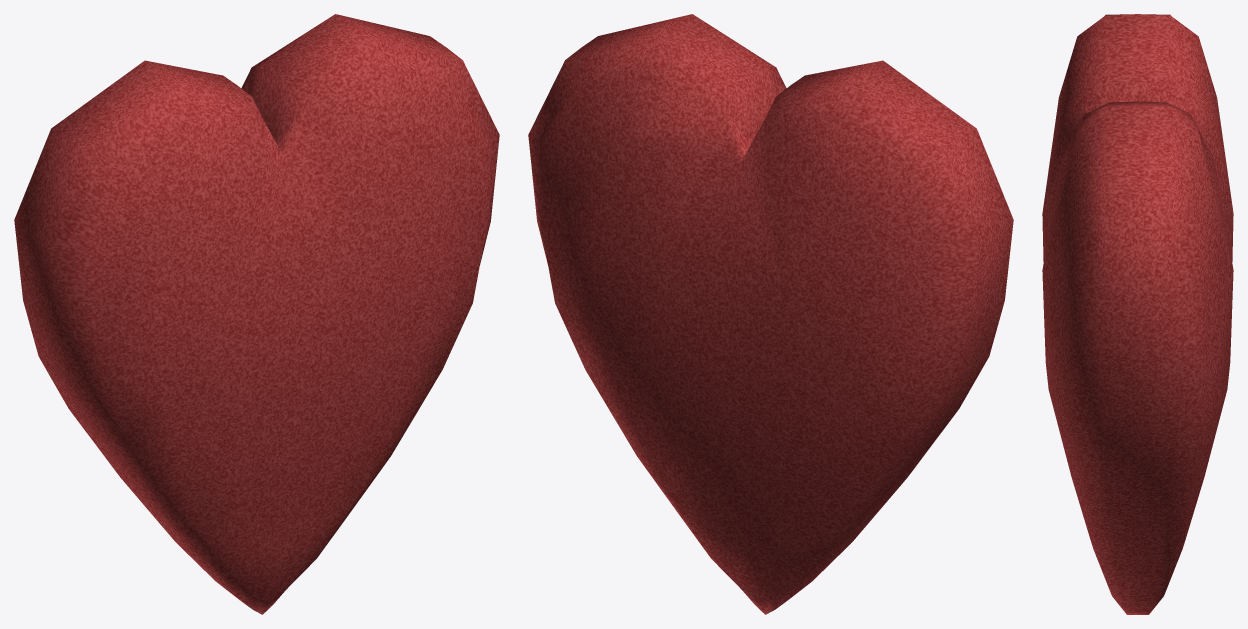
Rendered from ItemHeart.FBX.
3 renders of one model, left to right at view 1: azimuth 30°, elevation 25°; view 2: azimuth 150°, elevation 25°; view 3: azimuth 270°, elevation 25°, orthographic.
Visible parts, largest first — view 1: Heart; view 2: Heart; view 3: Heart.
Part boxes in pixels (bbox=[...]): Heart: bbox=[14, 14, 499, 614]; Heart: bbox=[528, 14, 1013, 614]; Heart: bbox=[1042, 14, 1233, 614].
Bounding box in the file's own units: 30.4 × 36.23 × 11.31.
